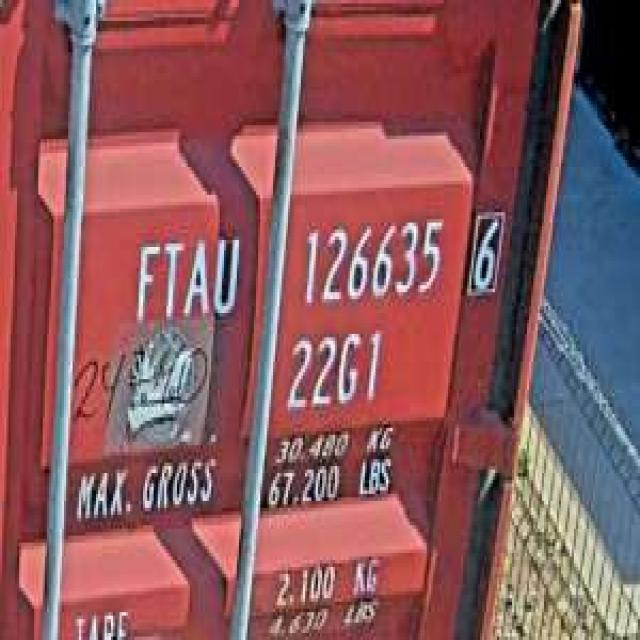dv: (463, 198, 508, 303)
owner: (126, 223, 243, 327)
serial: (296, 208, 446, 310)
size: (279, 320, 384, 414)
